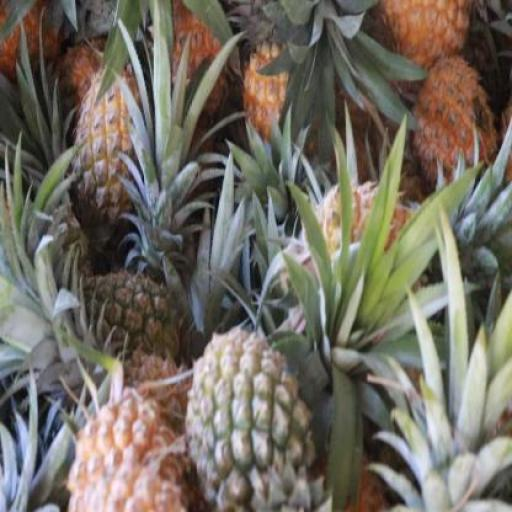------------------------------: (184, 330, 311, 512), (72, 70, 145, 228)
Pineapple - v8 v1: (405, 60, 495, 192), (379, 0, 469, 92)
